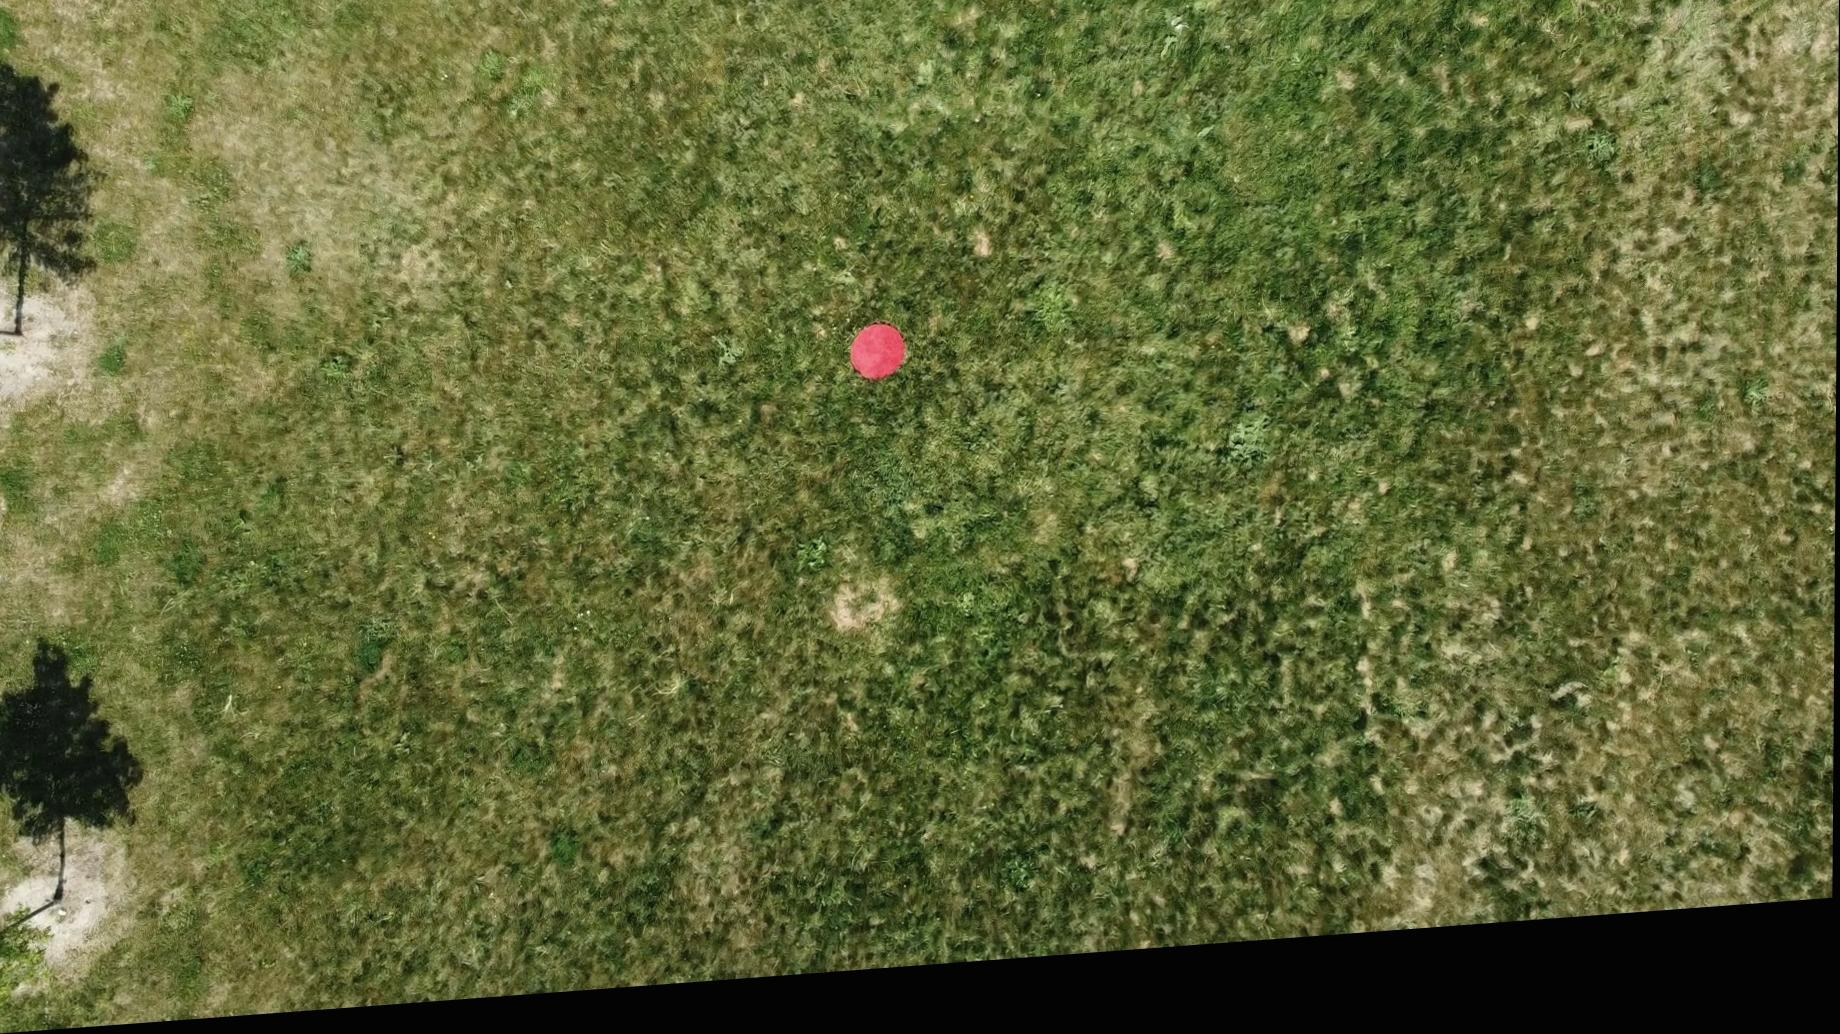Red: (849, 334, 909, 398)
